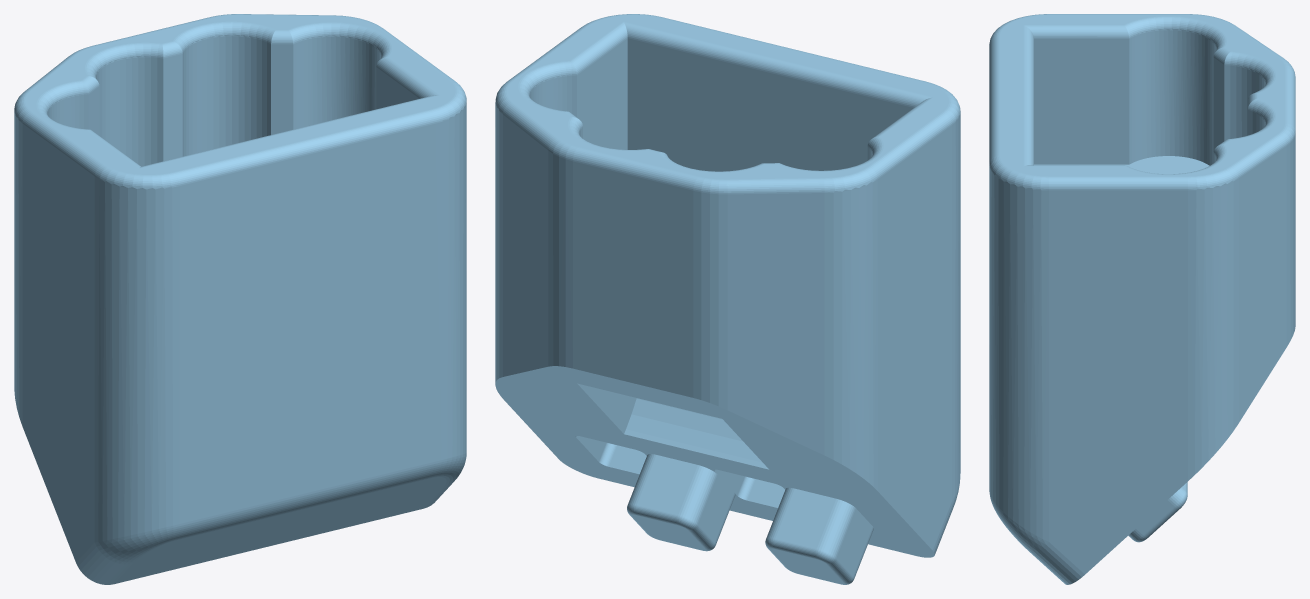
File: goal_angle.dae
3 renders of one model, left to right at view 1: azimuth 30°, elevation 25°; view 2: azimuth 150°, elevation 25°; view 3: azimuth 270°, elevation 25°, orthographic. The views are drawn at different scales.
Visible parts, largest first — view 1: 5c4fd34b3f1497165d7bcfbf; view 2: 5c4fd34b3f1497165d7bcfbf; view 3: 5c4fd34b3f1497165d7bcfbf.
Boxes of the visible parts, x1,y1,x2,y2 form: 5c4fd34b3f1497165d7bcfbf: (14,14,466,584); 5c4fd34b3f1497165d7bcfbf: (495,14,960,584); 5c4fd34b3f1497165d7bcfbf: (989,14,1295,584).
Size of the model in its own units: 0.027 by 0.0205 by 0.031.
